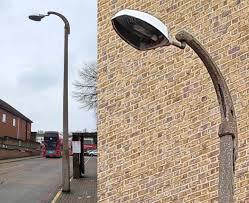light_pole: (34, 7, 74, 194), (214, 79, 236, 203)
